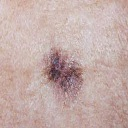Melanoma: (44, 48, 86, 99)
